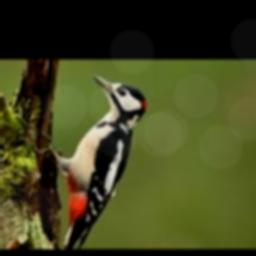Woodpecker: (34, 73, 145, 249)
